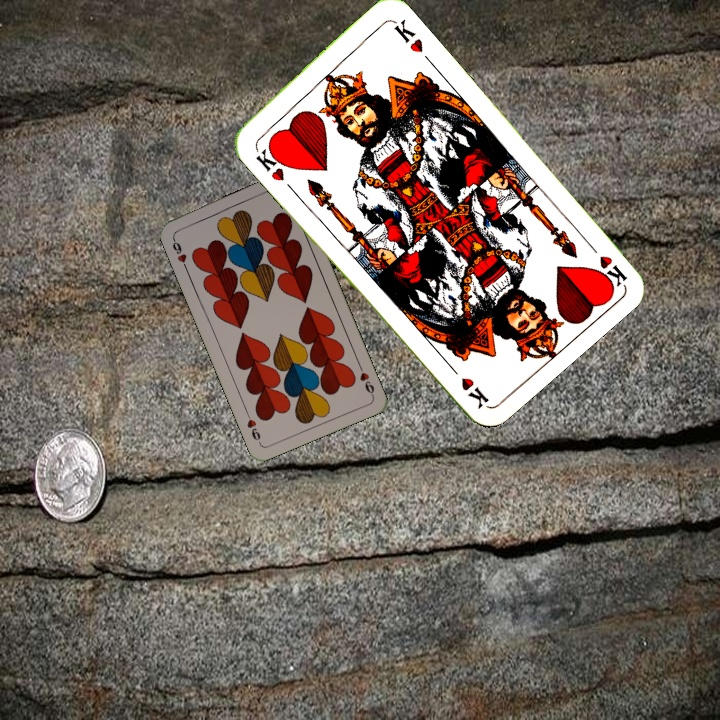H9: (354, 360, 377, 399), (168, 233, 190, 272)
HK: (582, 236, 629, 291), (252, 140, 291, 184)
